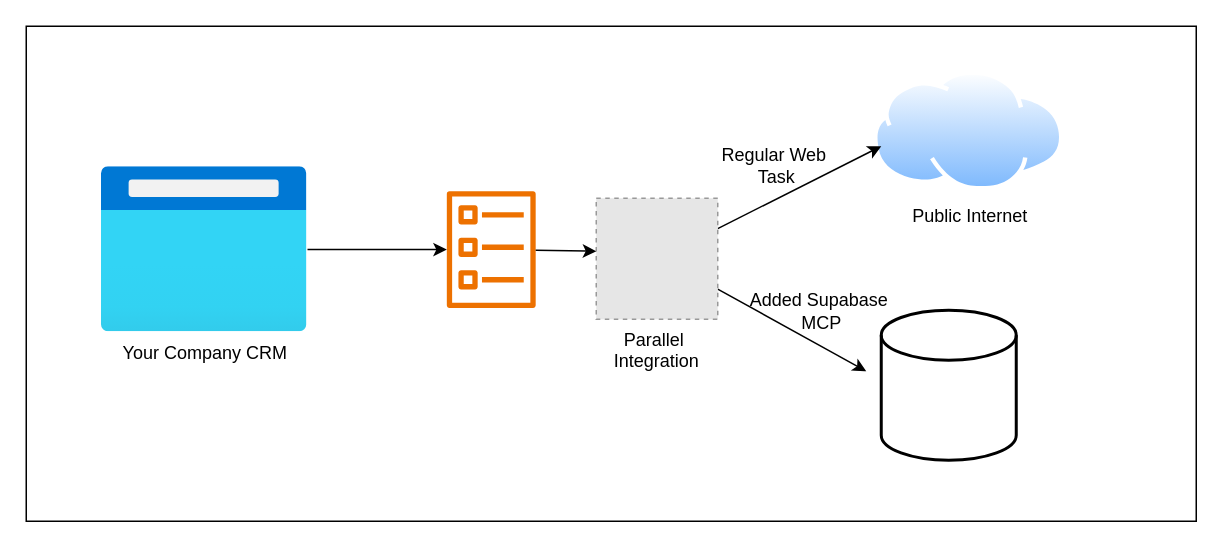
The diagram is 1223 pixels wide and 548 high, and some of its shapes have lost their labels. Grey dashed boxes stand in for pictures. Here are the shapes that lost their labels. From the top down, the centre of each, then its label:
At point (491, 248): "Meeting Enrichment Task".
At point (948, 384): "Private Companies DB".
